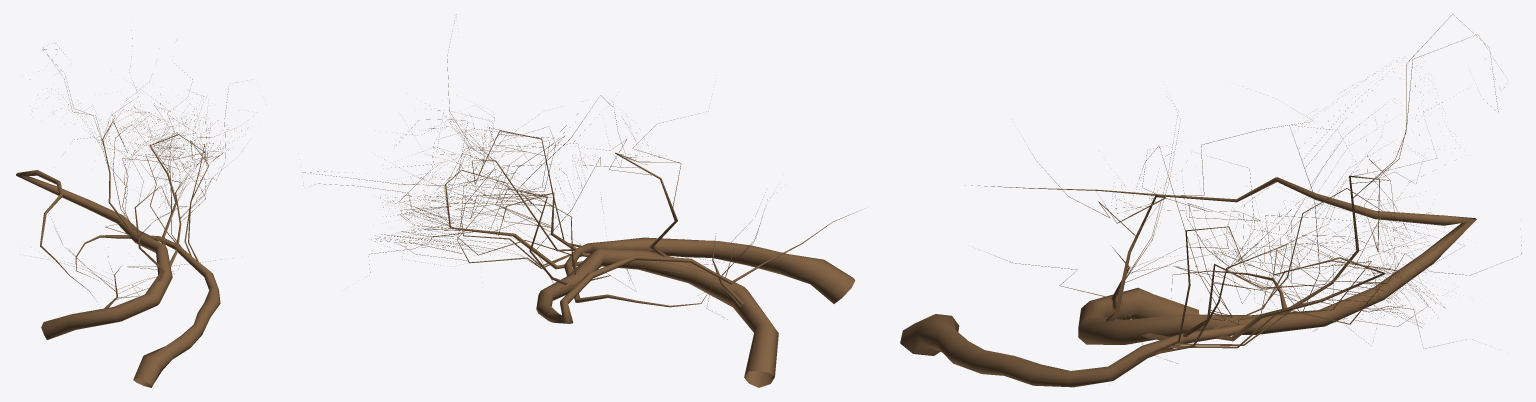
File: acer-palmatum-bonsai-informal.glb
3 renders of one model, left to right at view 1: azimuth 30°, elevation 25°; view 2: azimuth 150°, elevation 25°; view 3: azimuth 270°, elevation 25°, orthographic. The views are drawn at different scales.
Visible parts, largest first — view 1: ToonlabTree; view 2: ToonlabTree; view 3: ToonlabTree.
Boxes of the visible parts, x1,y1,x2,y2 form: ToonlabTree: (16, 30, 241, 387); ToonlabTree: (303, 14, 860, 387); ToonlabTree: (900, 14, 1521, 387).
Size of the model in its own units: 4.67 by 3.65 by 5.23.
